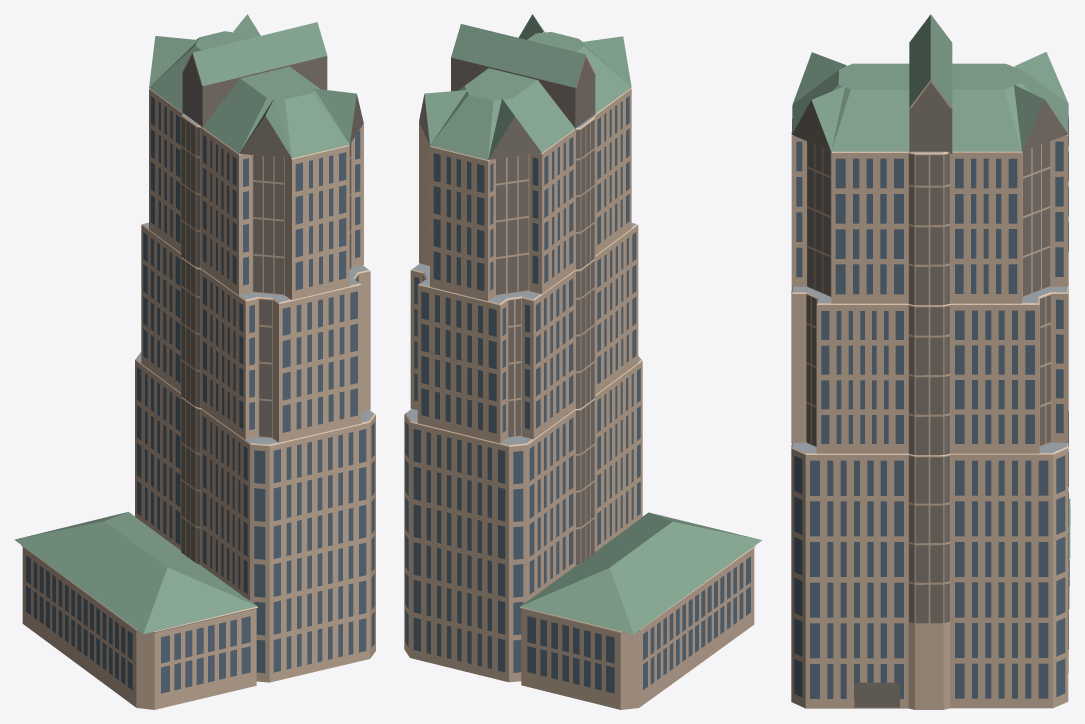
Rendered from stl-one-metropolitan-square.glb.
3 renders of one model, left to right at view 1: azimuth 30°, elevation 25°; view 2: azimuth 150°, elevation 25°; view 3: azimuth 270°, elevation 25°, orthographic. The views are drawn at different scales.
Visible parts, largest first — view 1: One Metropolitan Square; view 2: One Metropolitan Square; view 3: One Metropolitan Square.
Part boxes in pixels (x1,y1,x2,y2): One Metropolitan Square: (14,14,375,709); One Metropolitan Square: (404,14,761,709); One Metropolitan Square: (791,14,1070,709).
Size of the model in its own units: 78.27 by 181 by 72.99.
